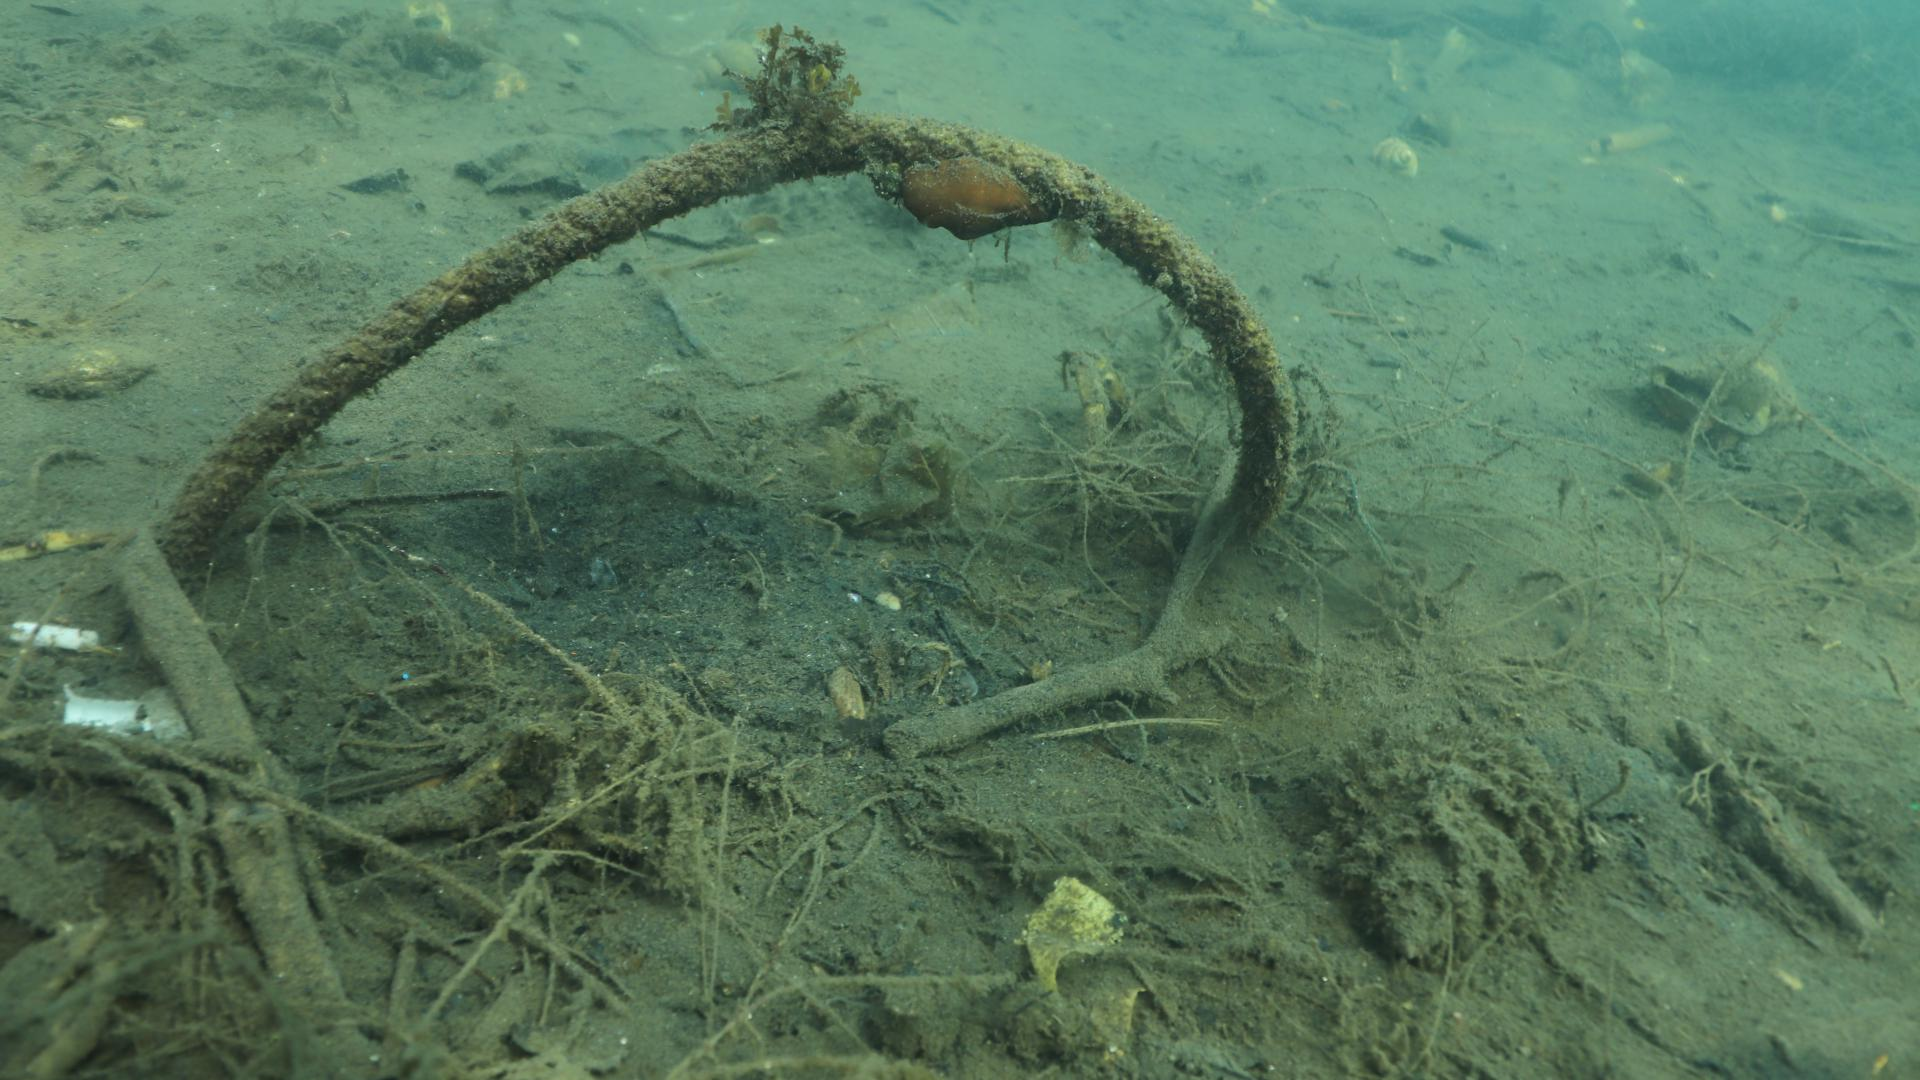rope: (153, 109, 1299, 587)
